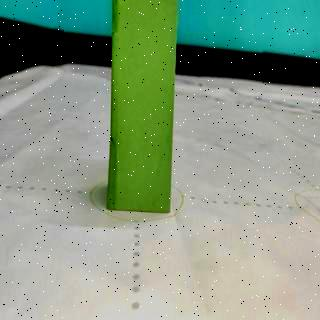greenbox: (110, 1, 178, 216)
